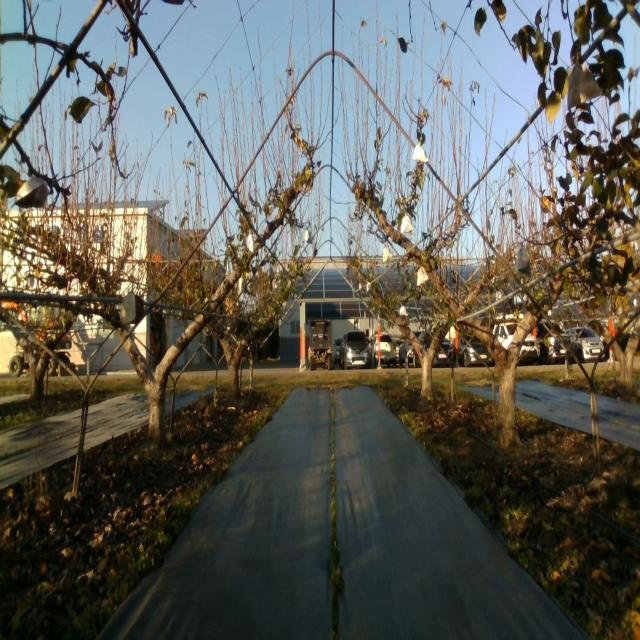pearbags: (568, 66, 602, 111), (14, 176, 48, 206), (516, 242, 532, 277), (412, 141, 429, 164), (416, 265, 429, 286), (400, 214, 413, 233)
